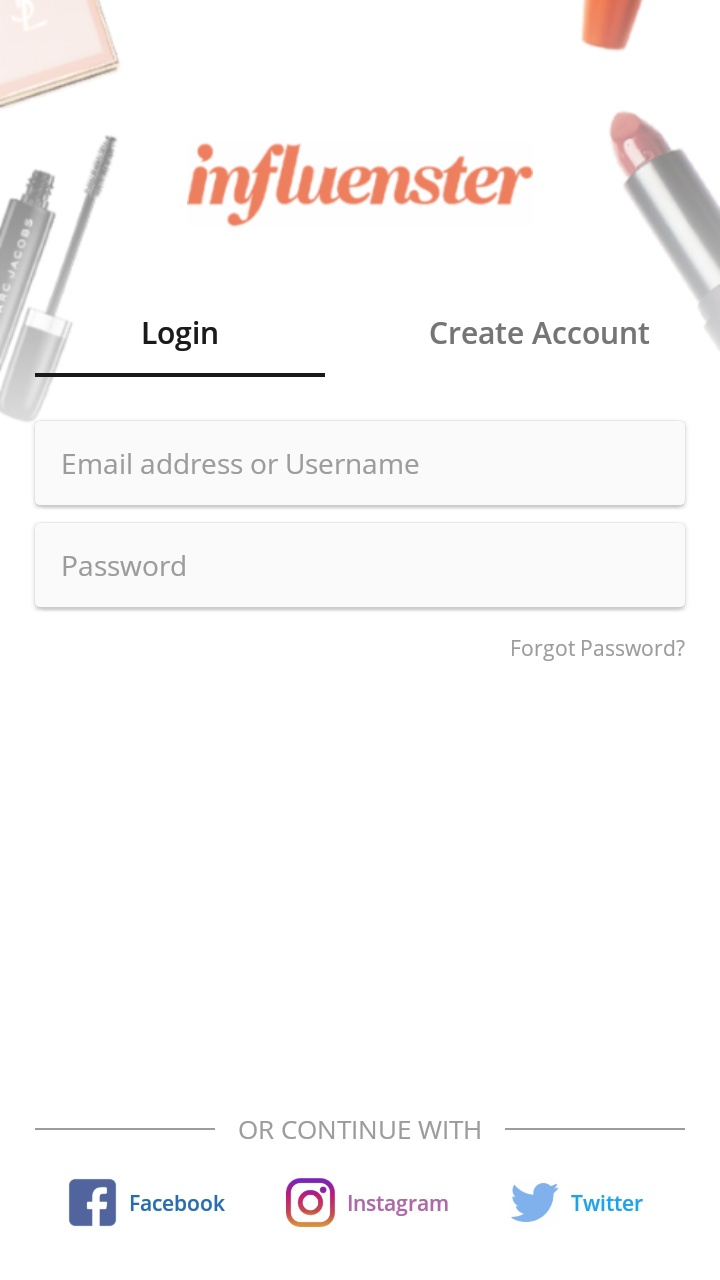EditText: (34, 421, 686, 508), (34, 522, 686, 609)
Icon: (69, 1178, 117, 1227), (511, 1182, 559, 1223)
Image: (187, 143, 534, 228), (286, 1177, 336, 1228)
Text: (64, 453, 420, 475), (430, 322, 650, 345), (239, 1120, 481, 1140), (512, 640, 685, 662), (64, 555, 186, 577), (143, 321, 218, 352), (349, 1194, 449, 1217), (131, 1194, 227, 1212), (571, 1194, 644, 1212)
